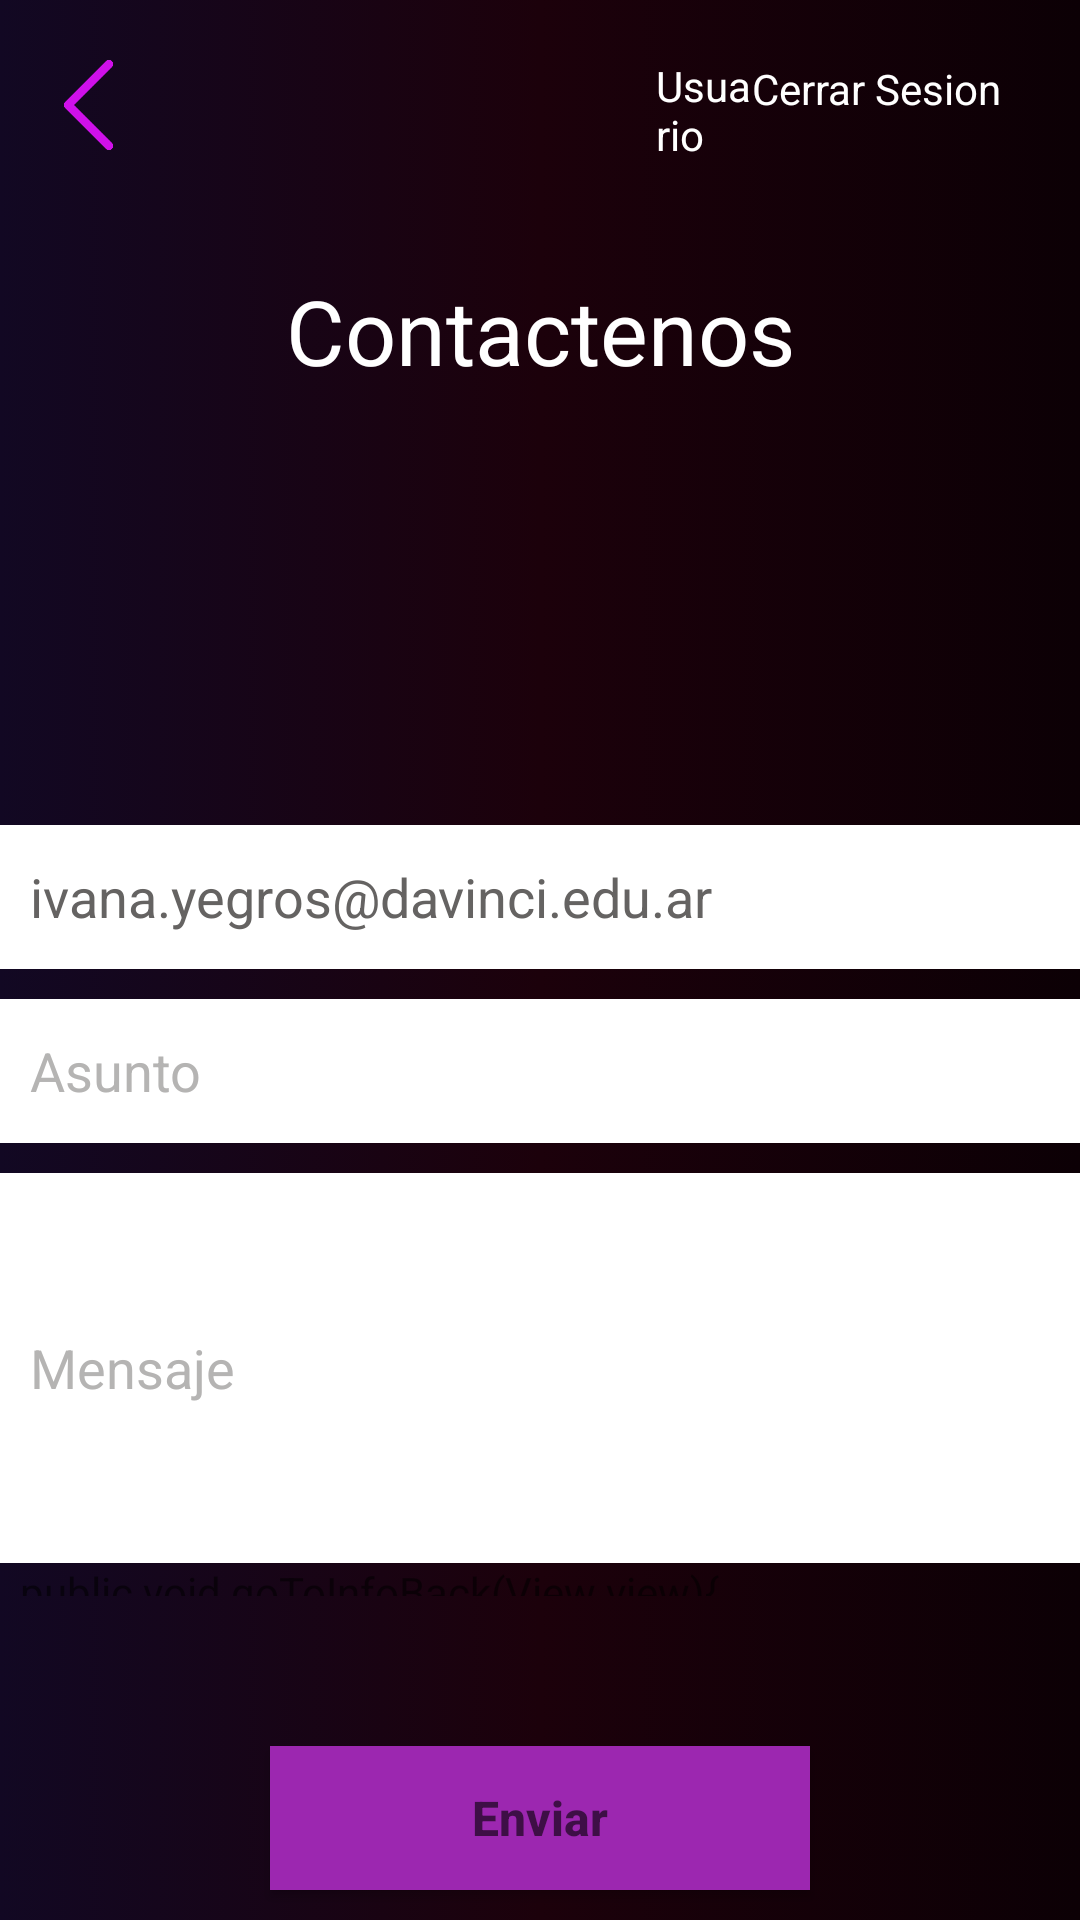

Screen size 1080px x 1920px. Icon name, then its box in pixels as bbox=(x1, y1, x2, y2):
left arrow: bbox=(64, 60, 113, 150)
